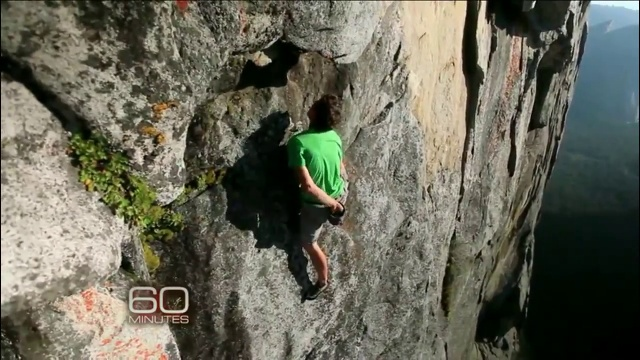person: (289, 80, 347, 300)
